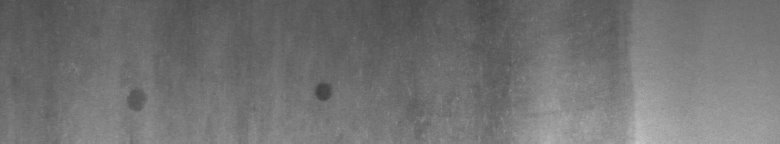fi: (308, 76, 336, 108)
